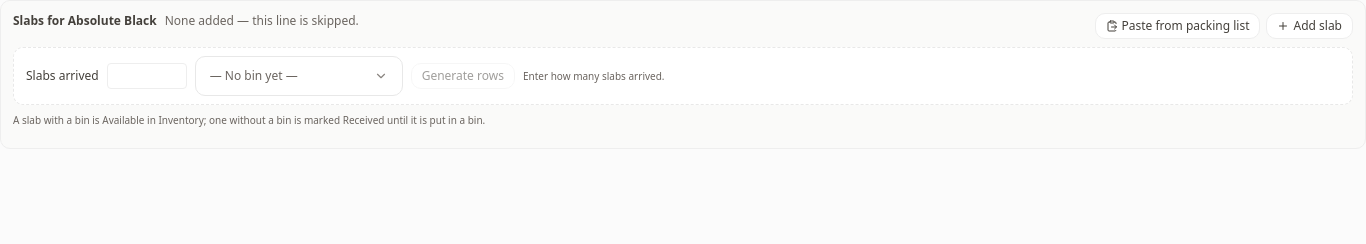
Test: SlabRowsEditor › adds a blank slab row
Click the button with aria-label "Add a slab for Absolute Black": click(1310, 26) 1266,13 -> 1353,39
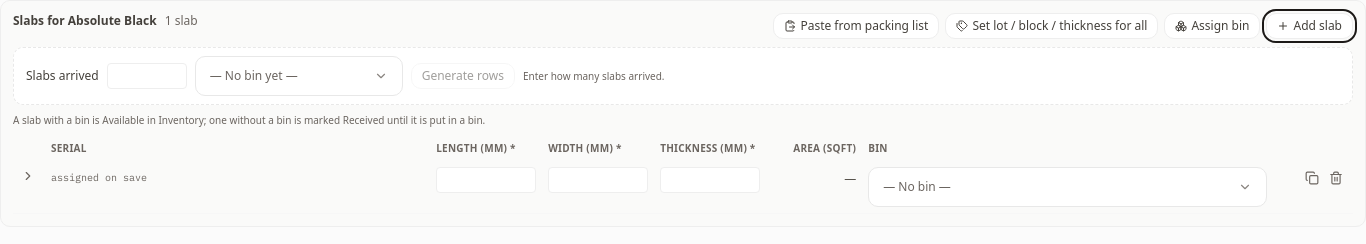
Expected: the number field named "Length (mm) of slab 1" is not empty, 436,167 -> 536,193
Expected: the text "1 slab" is shown, 165,12 -> 198,29
